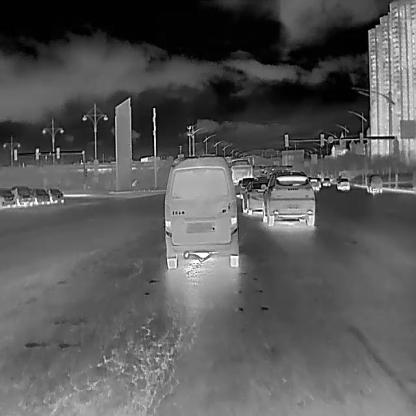bus: (228, 162, 252, 193)
car: (164, 155, 240, 269), (261, 171, 316, 225), (242, 177, 269, 215), (10, 184, 34, 206), (234, 178, 254, 197), (366, 173, 382, 193), (0, 187, 16, 206), (31, 188, 50, 203), (47, 186, 64, 202), (335, 176, 349, 190), (308, 176, 319, 190), (322, 176, 330, 186)
